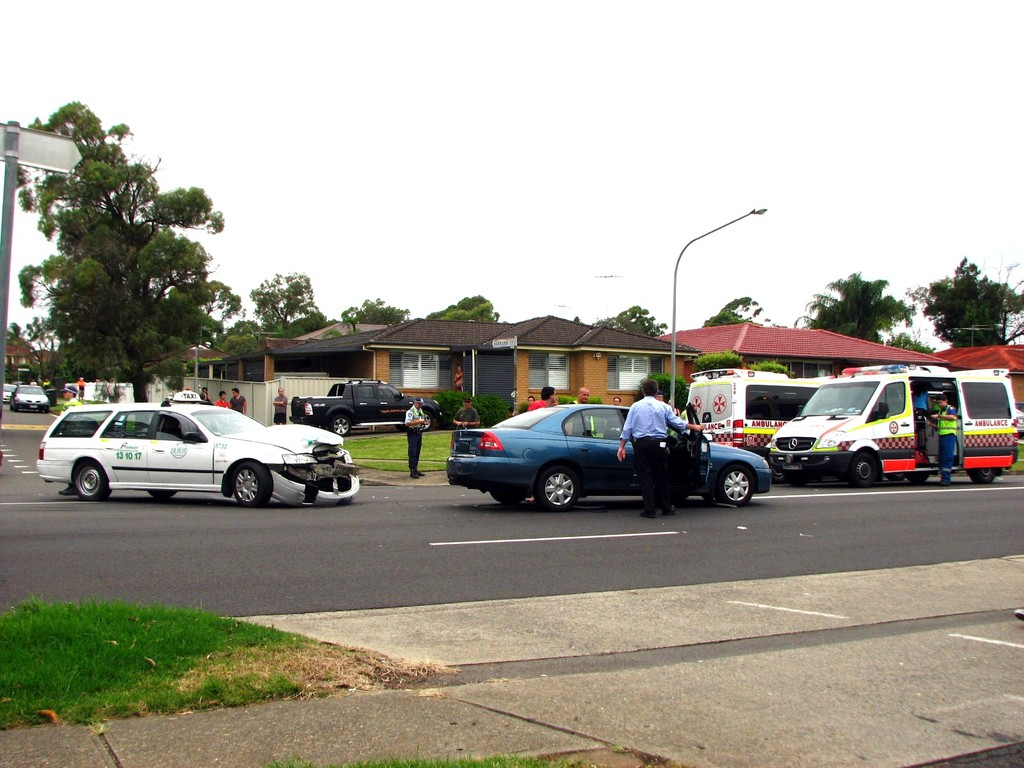Car: (19, 394, 364, 508), (444, 401, 772, 513), (286, 378, 441, 437), (10, 384, 56, 412), (2, 383, 18, 403), (1015, 408, 1023, 437), (65, 384, 78, 394), (14, 379, 26, 384)
